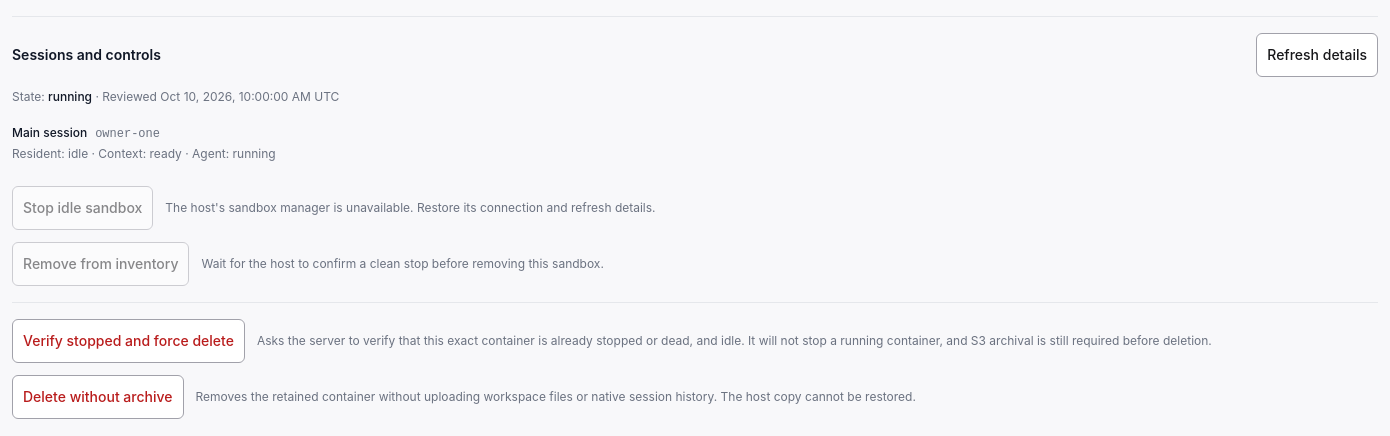
Test: sandbox member visibility and control › shows the sandbox manager recovery message until refreshed activity is current: {"terminal_count":null,"terminal_count_observed_at":null}
Expected: the text "The host's sandbox manager is unavailable. Restore its connection and refresh details." is shown, [165,200,656,215]
Expected: the button "Stop idle sandbox" is disabled, [12,186,153,230]
Click the button "Refresh details": click(1317, 55) [1256,33,1378,77]
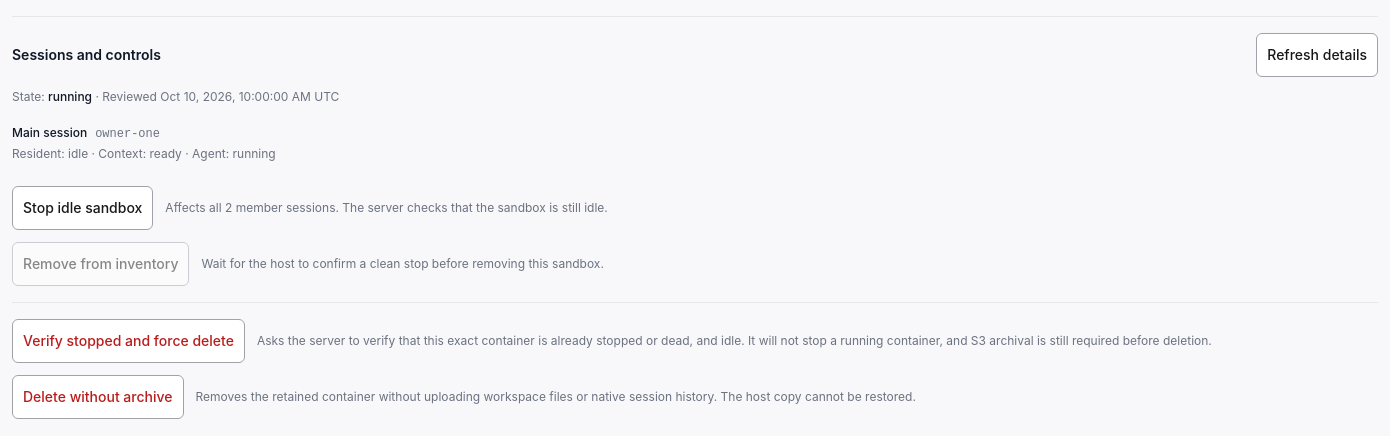
Result: the button "Stop idle sandbox" is enabled at [12,186,153,230]
Result: the text "The host's sandbox manager is unavailable. Restore its connection and refresh details." is gone
